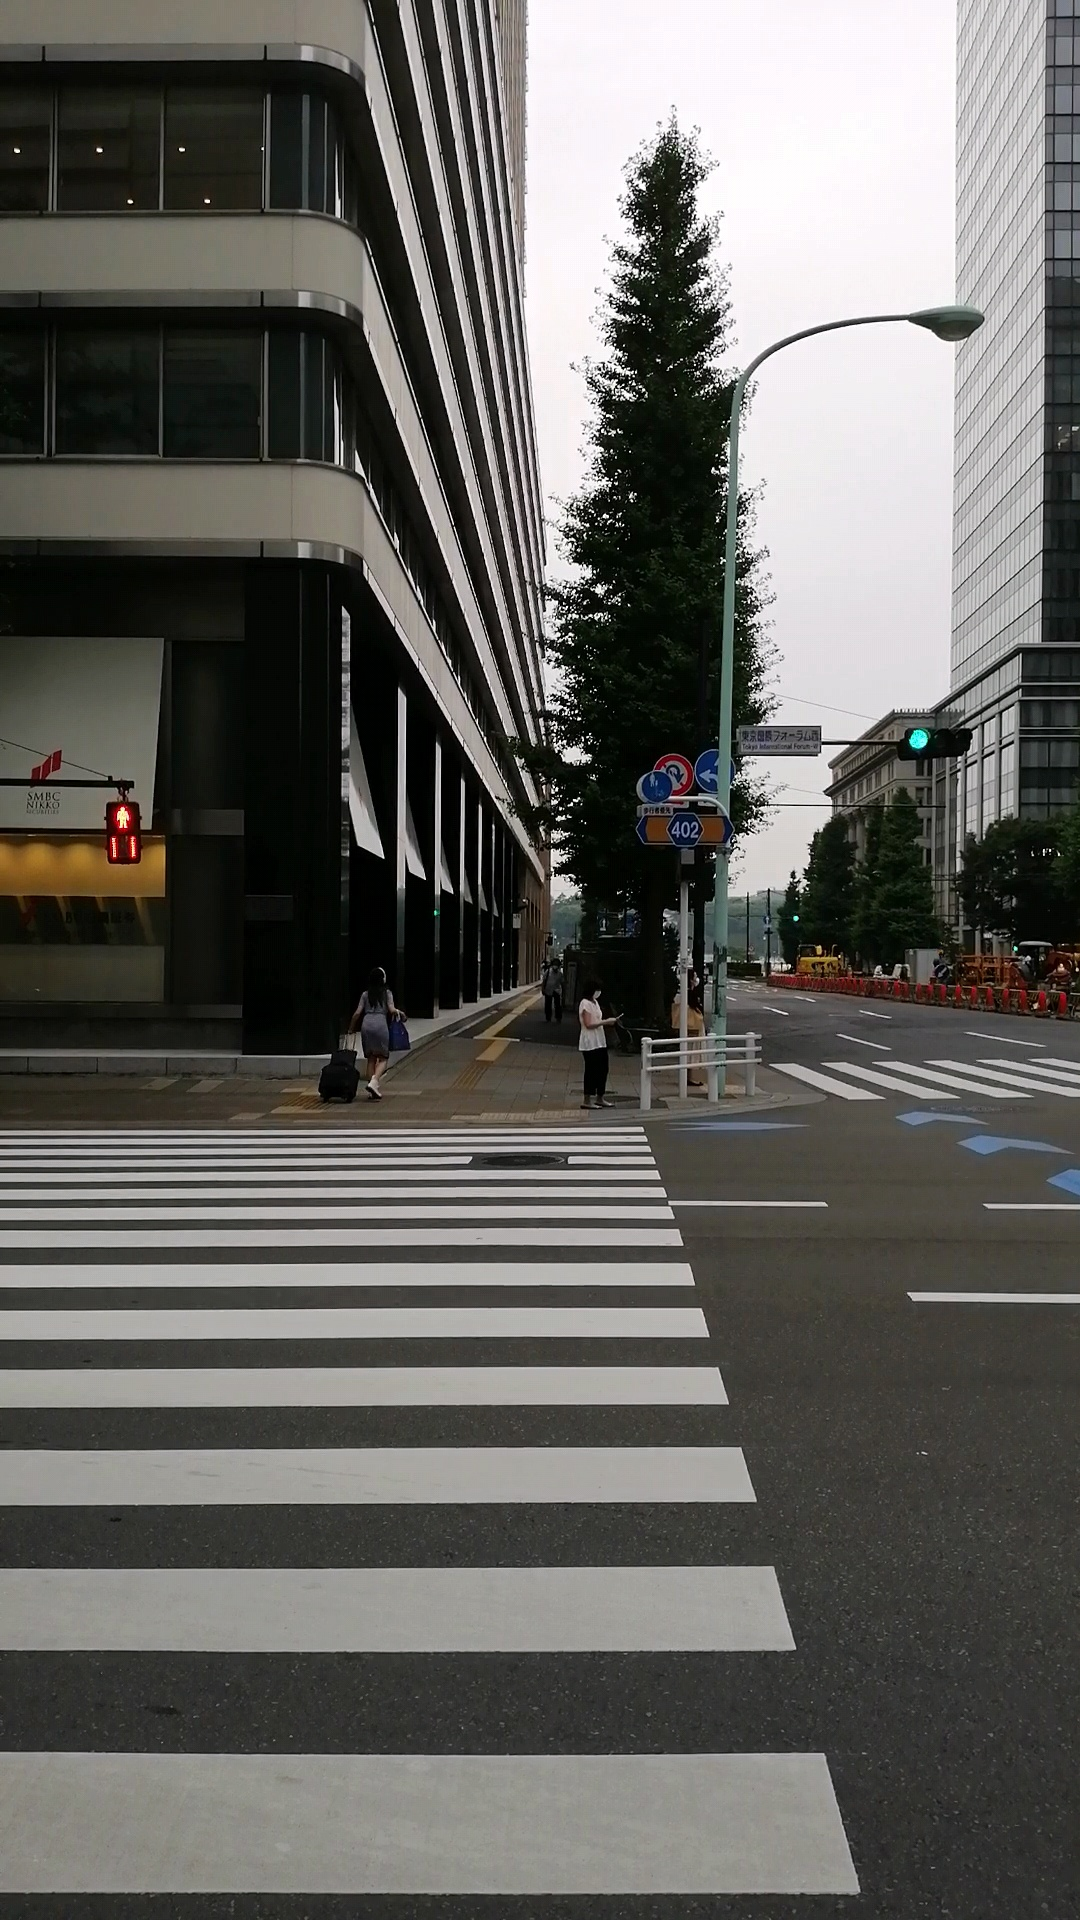red: (105, 802, 140, 865)
